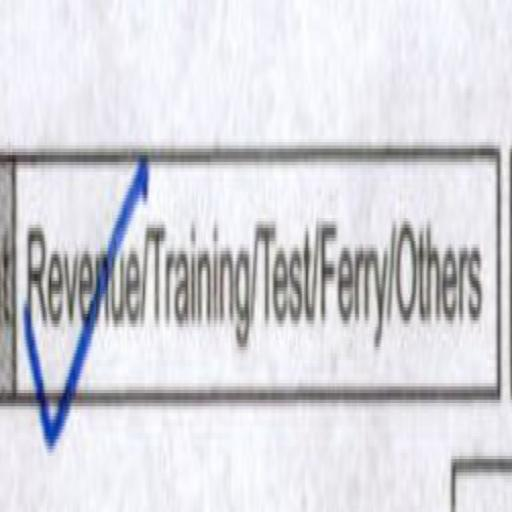check: (23, 115, 147, 427)
